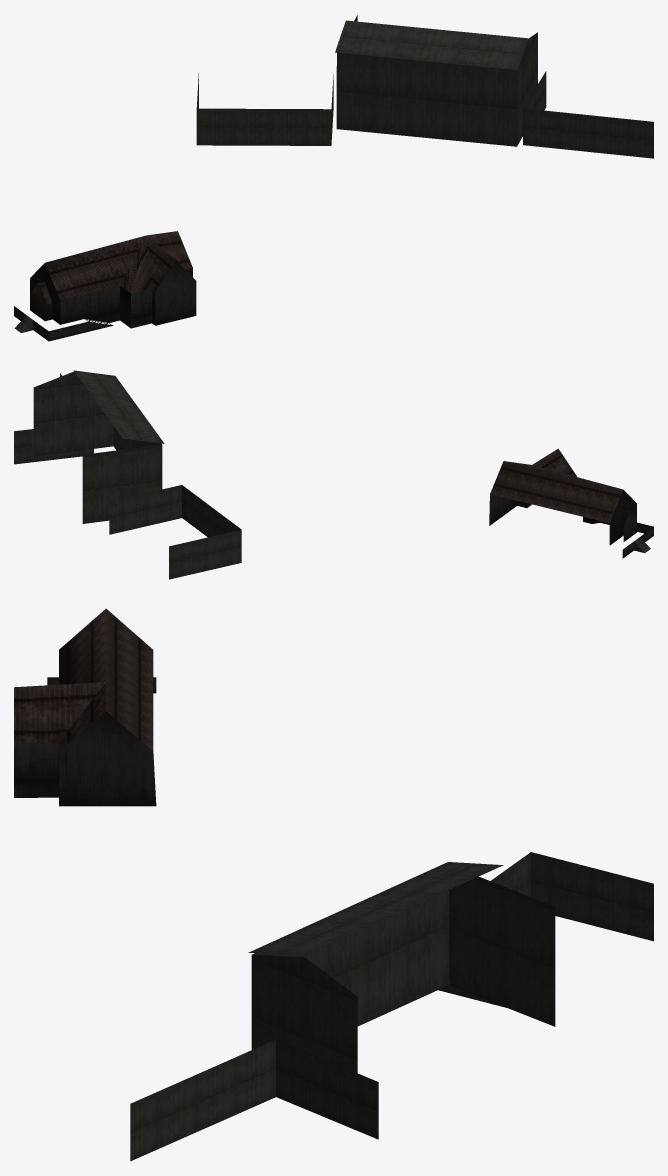
File: cell_15_-14.gltf
The picture shows the model from 3 angles, top to bottom: view 1: azimuth 30°, elevation 25°; view 2: azimuth 150°, elevation 25°; view 3: azimuth 270°, elevation 25°; orthographic projection. The views are drawn at different scales.
Visible parts, largest first — view 1: cell_15_-14; view 2: cell_15_-14; view 3: cell_15_-14.
Part boxes in pixels (x1,y1,x2,y2): cell_15_-14: (14,15,653,341); cell_15_-14: (14,370,653,579); cell_15_-14: (14,608,653,1161).
Size of the model in its own units: 161 by 25.38 by 88.3.
Materials: 4 (4 with a texture image).
